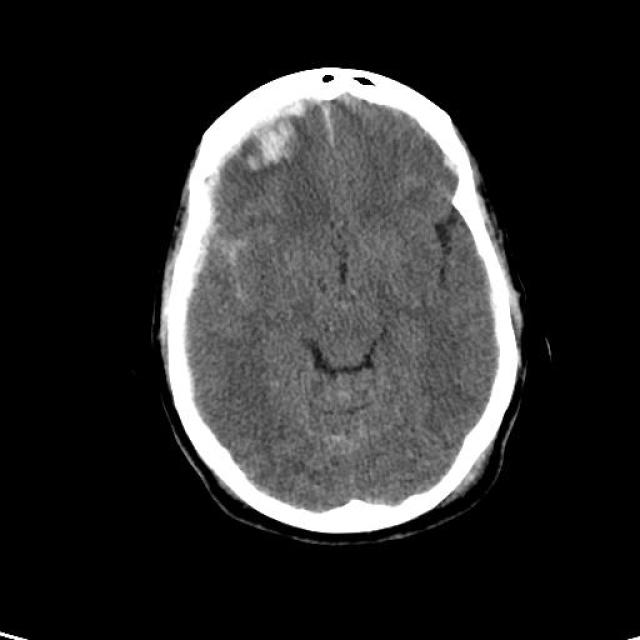Intraparenchymal: (238, 119, 302, 170)
Subarachnoid: (214, 232, 275, 296)
Subdural: (179, 179, 221, 310), (318, 104, 347, 160)
